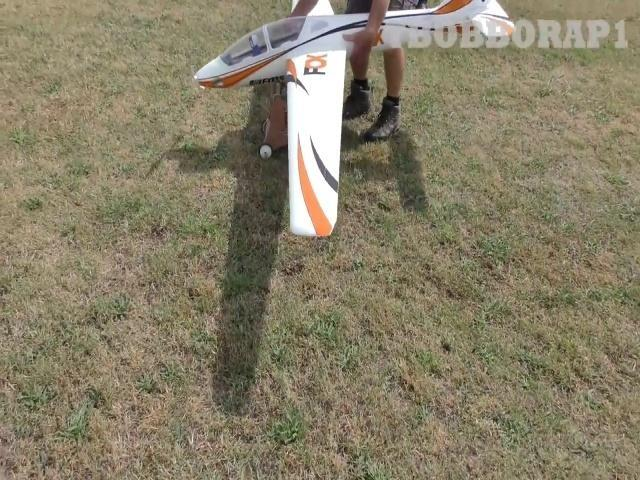Airplane: (193, 3, 515, 237)
